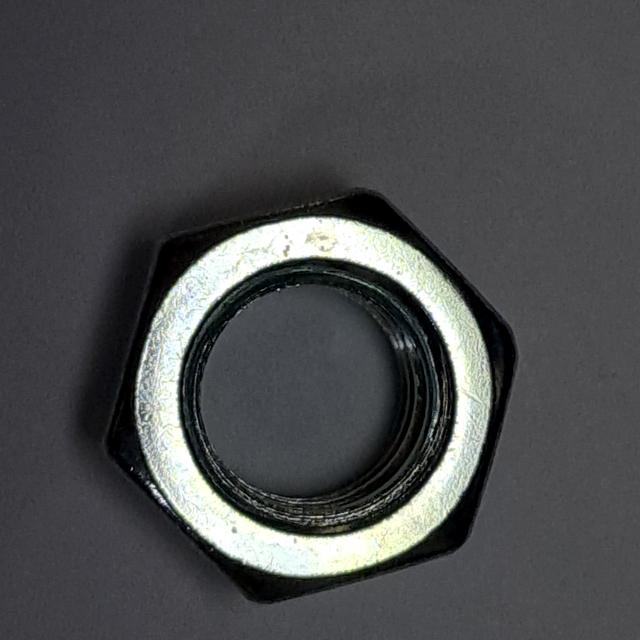Excellent: (92, 178, 530, 618)
